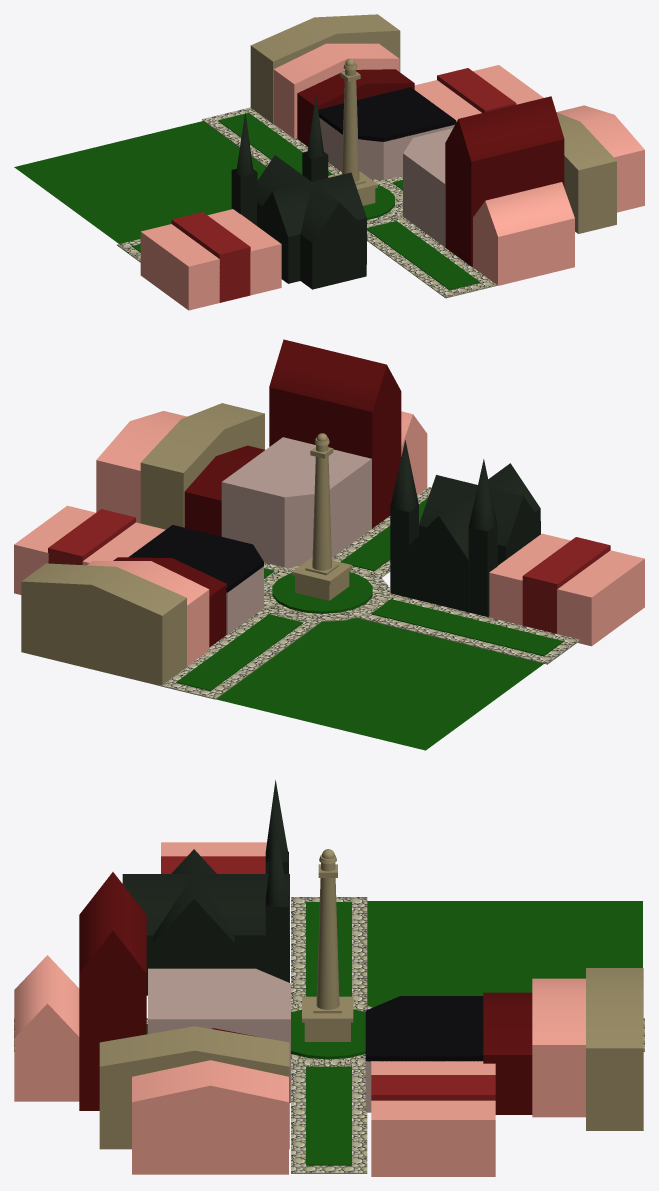
The model's file is Washington Monument.FBX.
3 views of the same model, one above another, from view 1: azimuth 30°, elevation 25°; view 2: azimuth 150°, elevation 25°; view 3: azimuth 270°, elevation 25° (orthographic). The views are drawn at different scales.
Visible parts, largest first — view 1: Box032, Box019, Box011, Box020, Box027, Box017, Box022, Box026, Box028, Box018, Box002, Box021 (+13 smaller); view 2: Box032, Box027, Box019, Box018, Box011, Box022, Box012, Box017, Box021, Box028, Box016, Box002 (+18 smaller); view 3: Box032, Box021, Box011, Box019, Box029, Box027, Box022, Box018, Box020, Box028, Box026, Box001 (+13 smaller).
Part boxes in pixels (box(x1,y1,x2,y2)): Box032: box(14, 121, 266, 243); Box019: box(445, 96, 564, 267); Box011: box(257, 155, 366, 289); Box020: box(473, 182, 574, 285); Box027: box(250, 14, 400, 123); Box017: box(140, 224, 219, 310); Box022: box(556, 112, 616, 233); Box026: box(273, 43, 399, 138); Box028: box(318, 87, 456, 141); Box018: box(403, 128, 453, 246); Box002: box(202, 107, 496, 298); Box021: box(556, 105, 644, 212); Box032: box(216, 618, 543, 750); Box027: box(21, 563, 186, 685); Box019: box(269, 339, 401, 528); Box018: box(221, 437, 371, 568); Box011: box(408, 463, 540, 612); Box022: box(140, 403, 264, 529); Box012: box(390, 440, 497, 616); Box017: box(557, 550, 644, 646); Box021: box(96, 411, 186, 523); Box028: box(128, 525, 263, 592); Box016: box(522, 537, 610, 633); Box002: box(158, 487, 431, 699); Box032: box(367, 901, 642, 1007); Box021: box(132, 1060, 288, 1174); Box011: box(122, 849, 289, 995); Box019: box(79, 872, 146, 1110); Box029: box(371, 1100, 495, 1176); Box027: box(586, 968, 643, 1130); Box022: box(99, 1026, 289, 1149); Box018: box(148, 968, 290, 1102); Box020: box(14, 955, 79, 1101); Box028: box(365, 996, 483, 1061); Box026: box(532, 978, 585, 1117); Box001: box(291, 897, 367, 1173).
Size of the model in its own units: 215 by 68.7 by 204.
10 materials, 2 textured.
